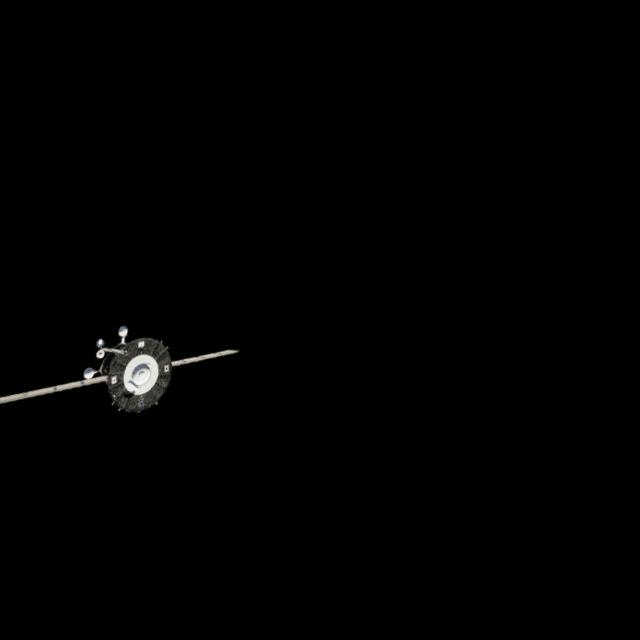Satellites revolving around earth: (0, 293, 241, 461), (95, 327, 179, 422)
